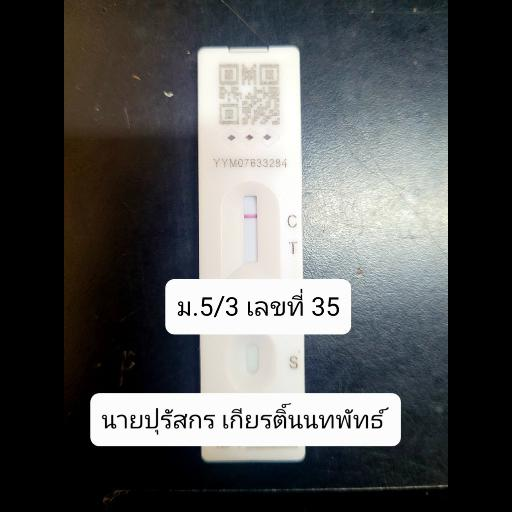Neg: (193, 45, 301, 459)
